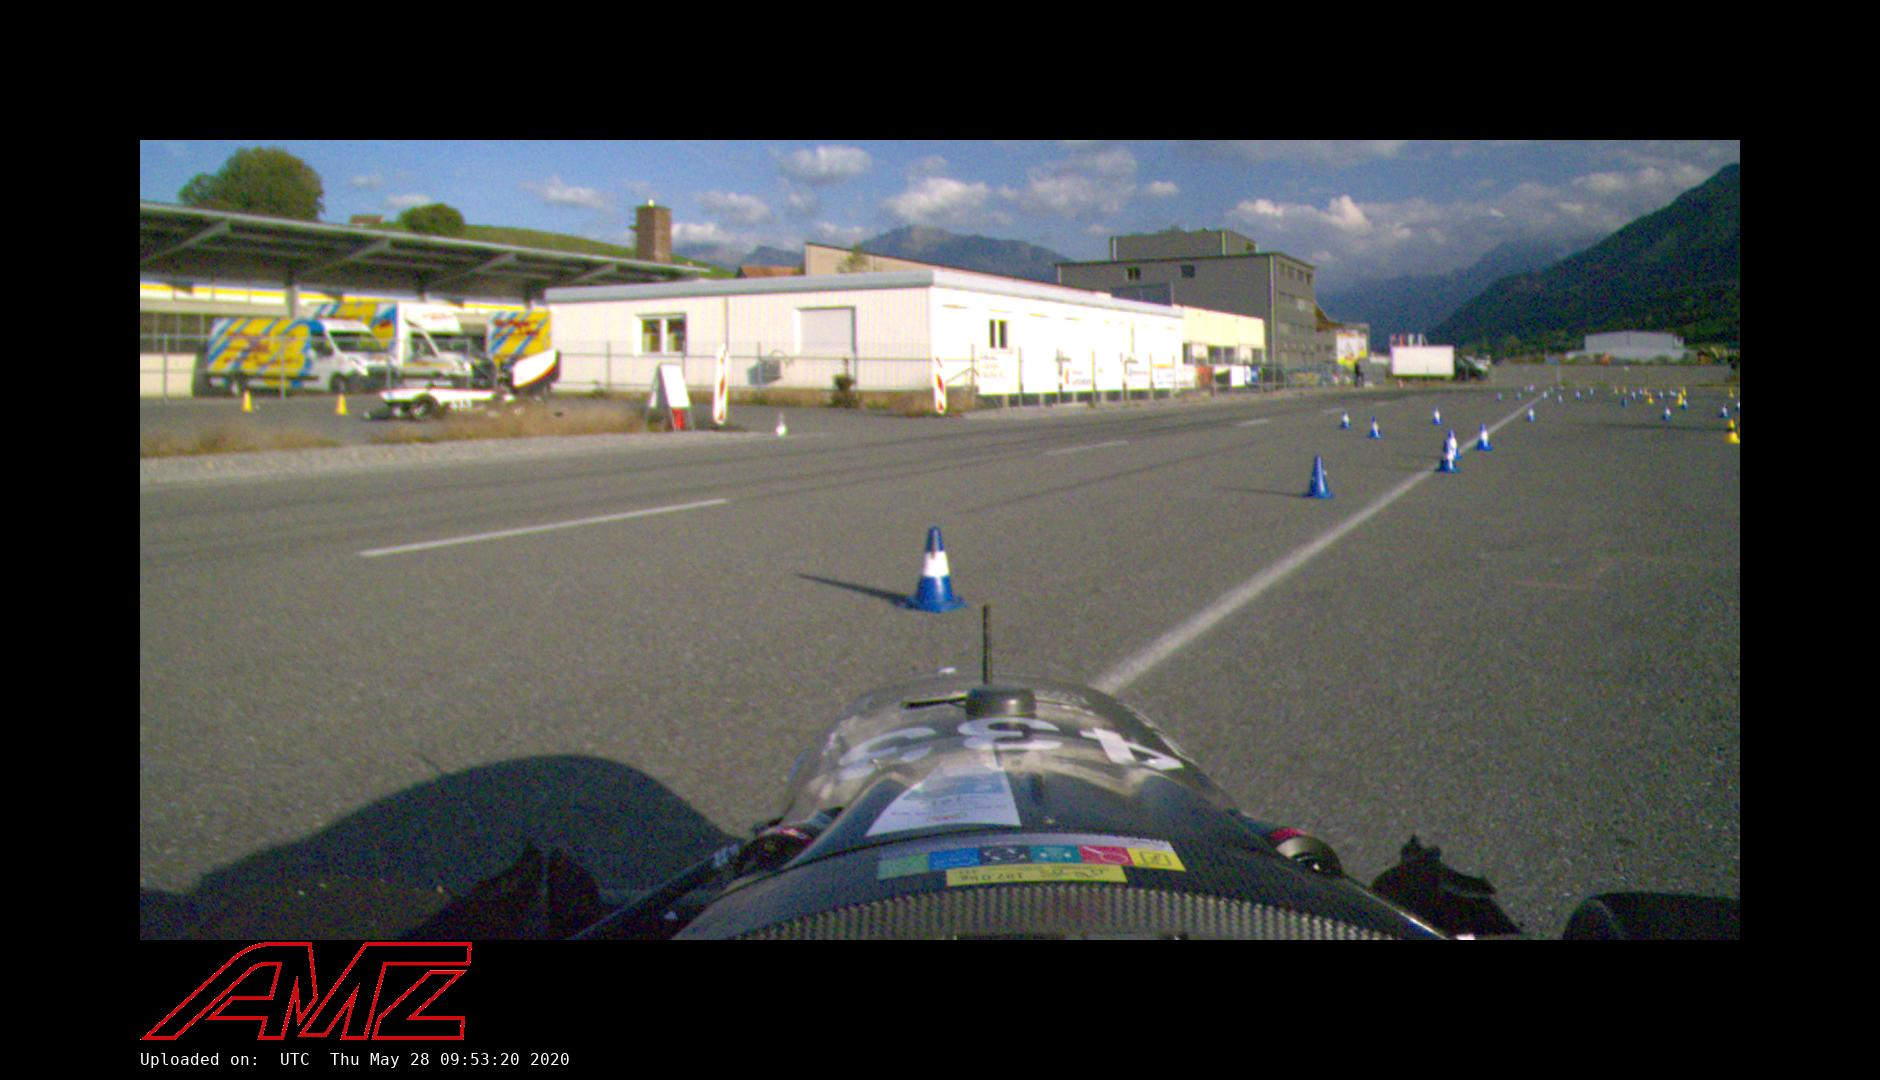blue_cone: (899, 528, 970, 614), (1304, 456, 1335, 499), (1435, 441, 1462, 473), (1474, 424, 1493, 451), (1446, 430, 1462, 460), (1366, 417, 1384, 439), (1339, 411, 1352, 429), (1432, 408, 1442, 425), (1527, 405, 1537, 422), (1663, 406, 1671, 420)
yellow_cone: (1723, 420, 1739, 444)
